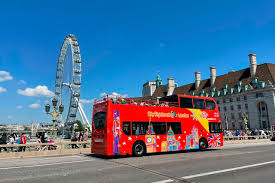bus: (91, 94, 222, 157)
